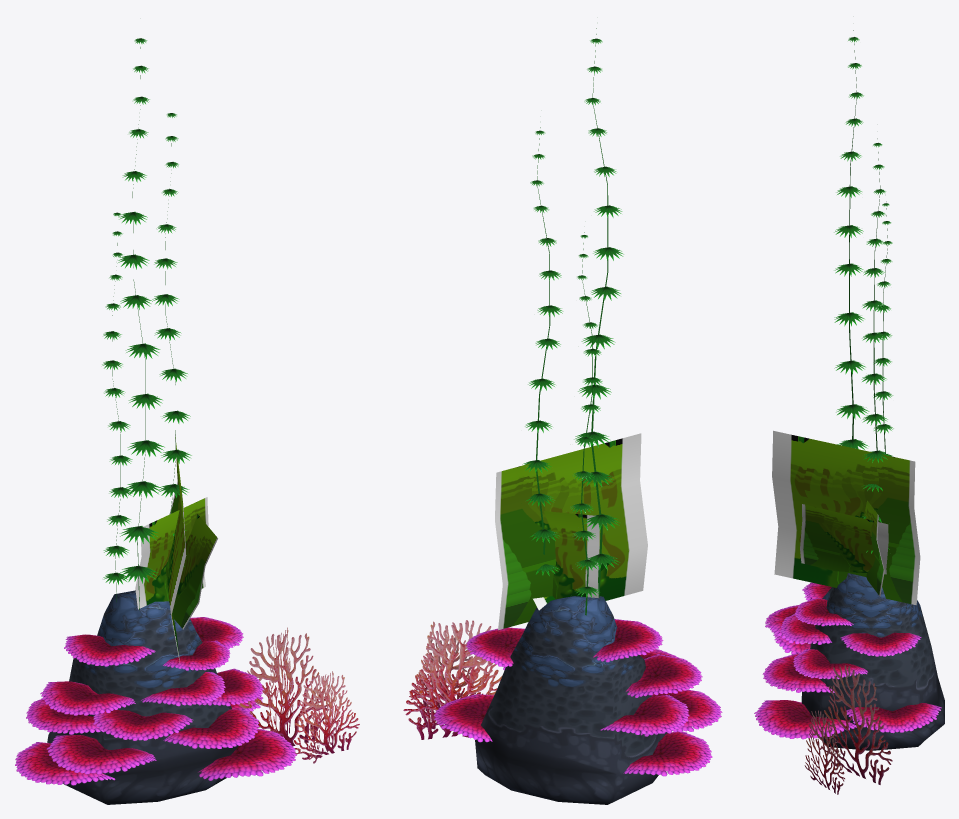
The model's file is CoralSet_13.FBX.
The picture shows the model from 3 angles, left to right: view 1: azimuth 30°, elevation 25°; view 2: azimuth 150°, elevation 25°; view 3: azimuth 270°, elevation 25°; orthographic projection. The views are drawn at different scales.
Parts seen in each view (by area): view 1: Set_13_Part04, Set_13, Set_13_Part05, Set_13_Part10, Set_13_Part011, Set_13_Part012, Set_13_Part03, Set_13_Part09, Set_13_Part08, Set_13_Part07, Set_13_Part01; view 2: Set_13, Set_13_Part07, Set_13_Part04, Set_13_Part05, Set_13_Part10, Set_13_Part011, Set_13_Part09, Set_13_Part08, Set_13_Part01; view 3: Set_13_Part07, Set_13, Set_13_Part04, Set_13_Part012, Set_13_Part05, Set_13_Part10, Set_13_Part09, Set_13_Part01, Set_13_Part08, Set_13_Part011.
Part boxes in pixels (box(x1,y1,x2,y2)): Set_13_Part04: box(15, 617, 296, 785); Set_13: box(47, 590, 238, 804); Set_13_Part05: box(239, 627, 329, 746); Set_13_Part10: box(117, 38, 164, 610); Set_13_Part011: box(135, 497, 208, 609); Set_13_Part012: box(169, 514, 217, 629); Set_13_Part03: box(294, 675, 359, 759); Set_13_Part09: box(152, 113, 191, 566); Set_13_Part08: box(102, 212, 132, 601); Set_13_Part07: box(166, 434, 186, 662); Set_13_Part01: box(308, 671, 340, 763); Set_13: box(475, 596, 667, 804); Set_13_Part07: box(495, 433, 647, 630); Set_13_Part04: box(433, 619, 722, 776); Set_13_Part05: box(403, 620, 502, 739); Set_13_Part10: box(574, 28, 623, 597); Set_13_Part011: box(544, 511, 599, 599); Set_13_Part09: box(522, 127, 563, 575); Set_13_Part08: box(570, 232, 602, 615); Set_13_Part01: box(409, 637, 483, 717); Set_13_Part07: box(772, 430, 920, 605); Set_13: box(801, 573, 944, 750); Set_13_Part04: box(754, 582, 941, 739); Set_13_Part012: box(800, 504, 888, 574); Set_13_Part05: box(822, 665, 892, 784); Set_13_Part10: box(834, 30, 869, 449); Set_13_Part09: box(861, 138, 889, 553); Set_13_Part01: box(804, 710, 844, 794); Set_13_Part08: box(873, 201, 893, 456); Set_13_Part011: box(863, 500, 884, 596).
Bounding box in the file's own units: 57.94 × 131 × 32.86.
